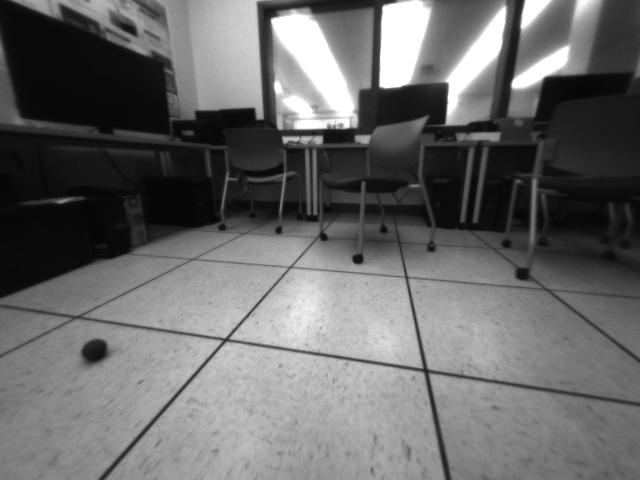dogtoy: (74, 330, 113, 365)
